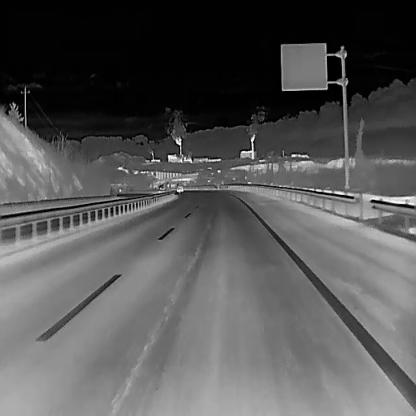car: (176, 182, 184, 193), (158, 184, 165, 194), (116, 187, 121, 192)
